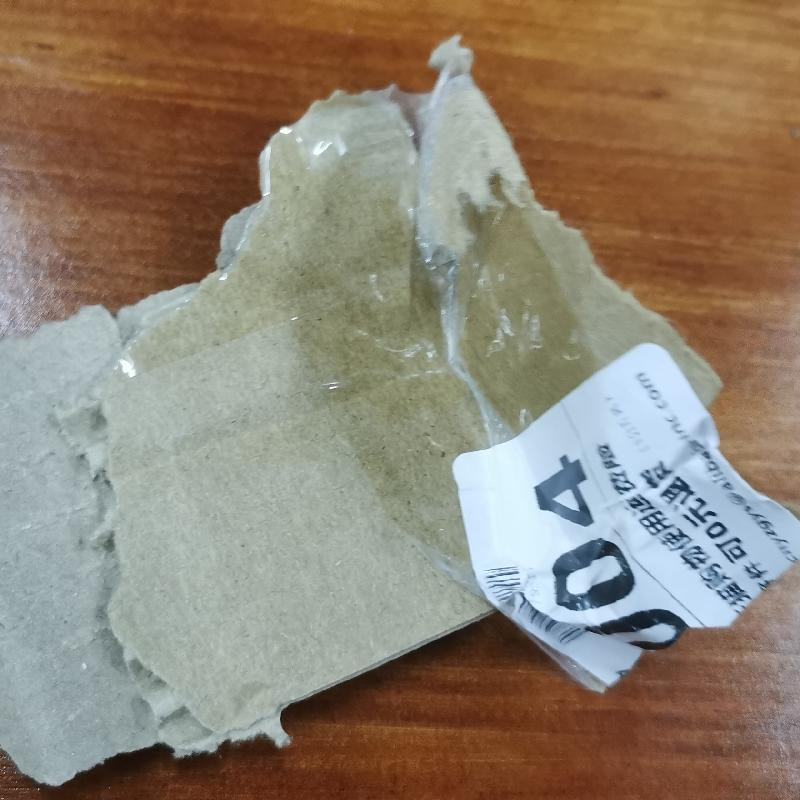boxes: (13, 32, 706, 790)
